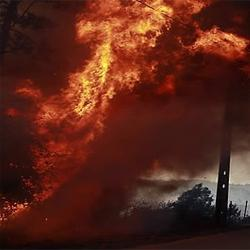fire: (84, 48, 111, 103), (134, 5, 176, 36)
